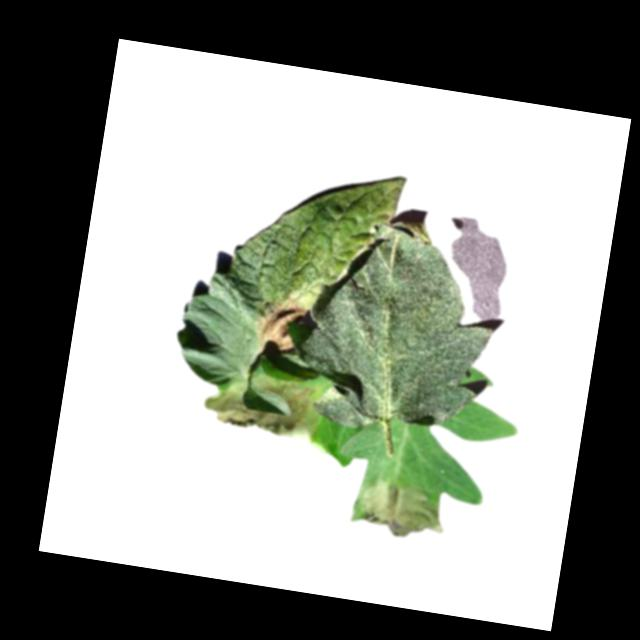Late_blight: (203, 371, 324, 440), (353, 472, 450, 543), (251, 292, 308, 354)
healthy: (289, 213, 507, 447)
